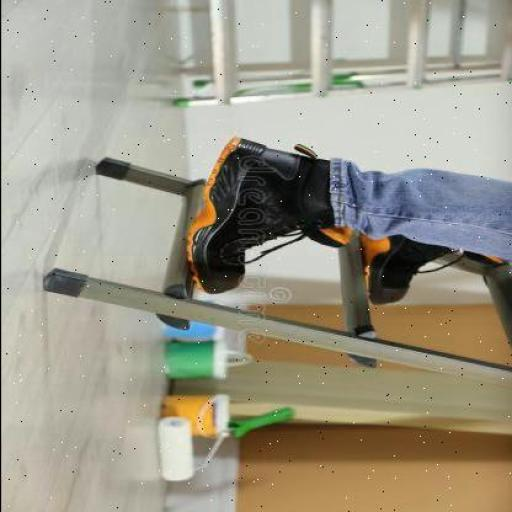safety_shoe: (182, 129, 355, 296), (361, 232, 459, 306)
